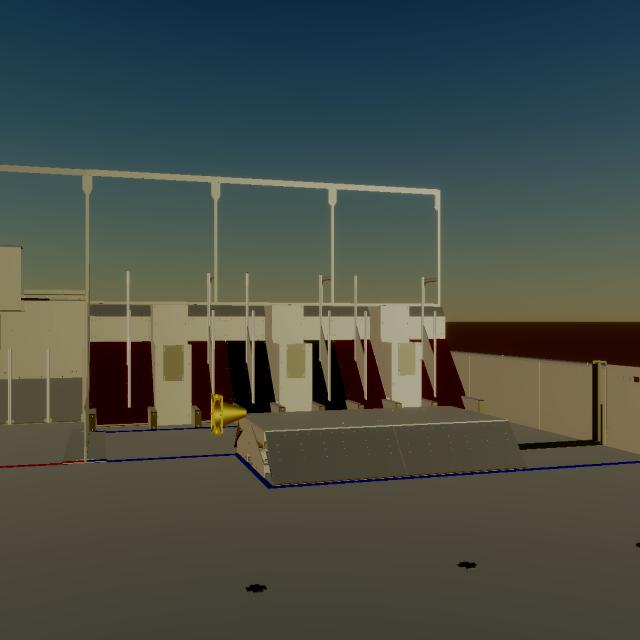frc_cone: (210, 394, 247, 436)
